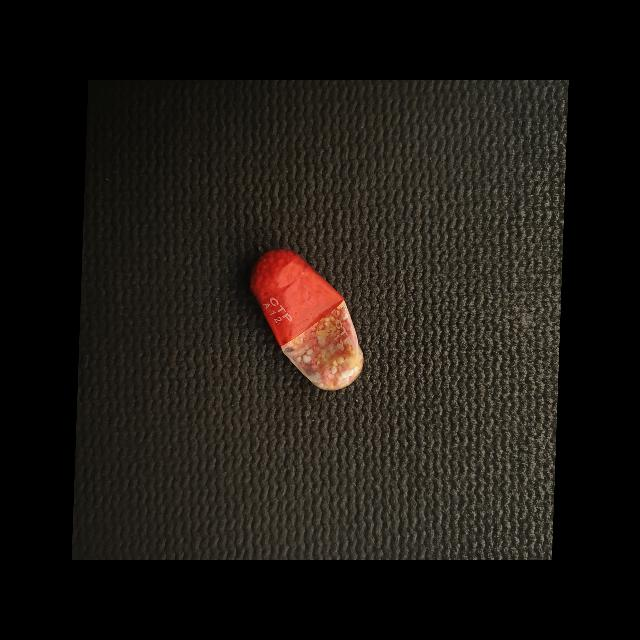Defective Capsule: (250, 249, 364, 390)
